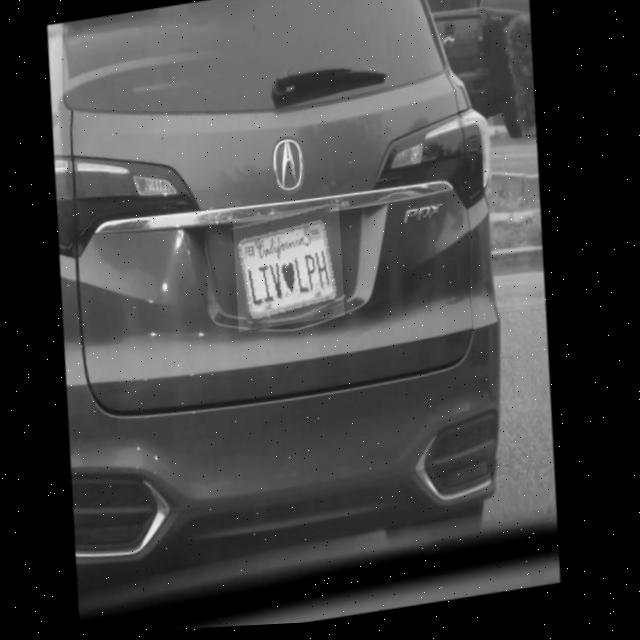LicensePlate: (231, 206, 353, 335)
